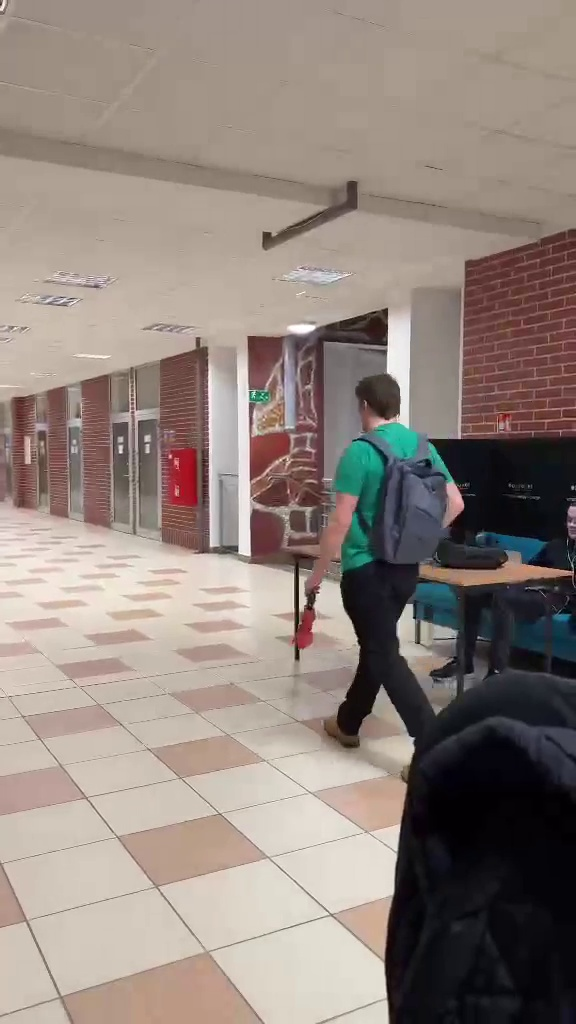no vest: (297, 377, 466, 763)
